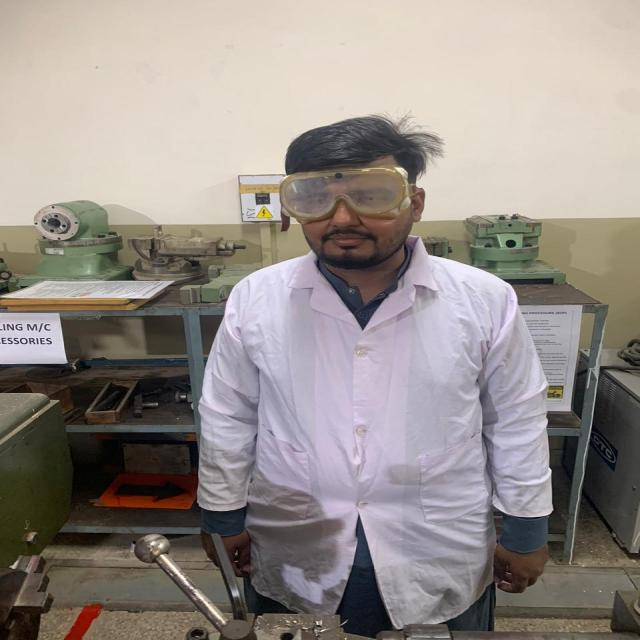googles: (274, 164, 416, 221)
labcoat: (187, 238, 560, 630)
